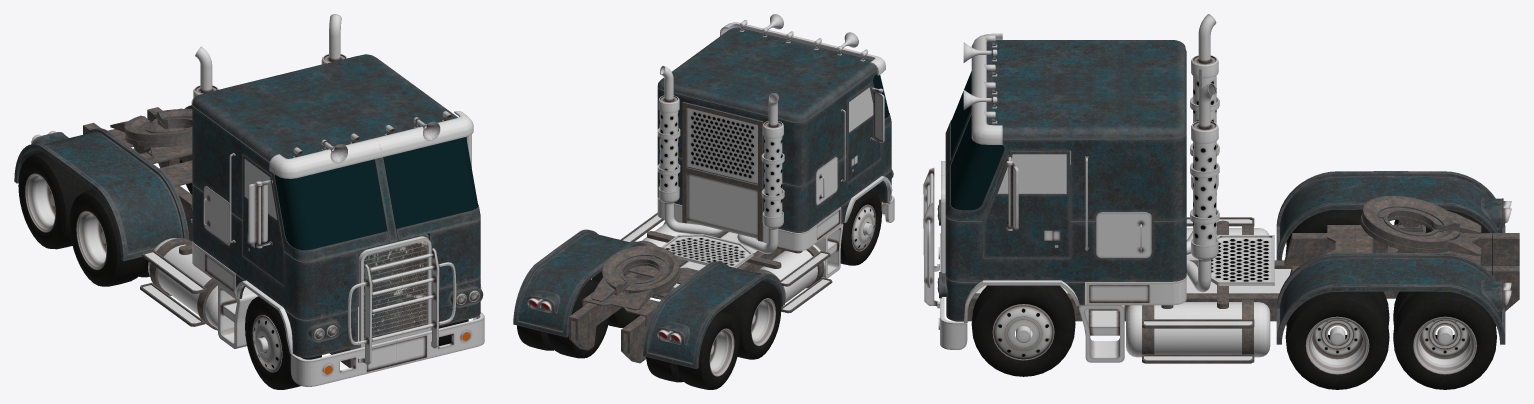
Rendered from cabover.gltf.
3 renders of one model, left to right at view 1: azimuth 30°, elevation 25°; view 2: azimuth 150°, elevation 25°; view 3: azimuth 270°, elevation 25°, orthographic. The views are drawn at different scales.
Visible parts, largest first — view 1: truck_main_body, chrome_pieces, rear_wheel_set_2_R, rear_wheel_set_1_R, front_right_tire; view 2: truck_main_body, chrome_pieces, rear_wheel_set_2_R, rear_wheel_set_1_R, front_right_tire, rear_wheel_set_2_L, rear_wheel_set_1_L; view 3: truck_main_body, chrome_pieces, rear_wheel_set_1_L, rear_wheel_set_2_L, front_left_tire, rear_wheel_set_1_R.
Part boxes in pixels (bbox=[...]): truck_main_body: bbox=[14, 54, 483, 367]; chrome_pieces: bbox=[143, 14, 484, 386]; rear_wheel_set_2_R: bbox=[18, 152, 92, 249]; rear_wheel_set_1_R: bbox=[69, 189, 149, 286]; front_right_tire: bbox=[245, 296, 321, 389]; truck_main_body: bbox=[513, 27, 893, 368]; chrome_pieces: bbox=[623, 14, 894, 310]; rear_wheel_set_2_R: bbox=[646, 311, 739, 389]; rear_wheel_set_1_R: bbox=[721, 280, 781, 359]; front_right_tire: bbox=[840, 190, 881, 265]; rear_wheel_set_2_L: bbox=[517, 279, 609, 358]; rear_wheel_set_1_L: bbox=[591, 271, 639, 327]; truck_main_body: bbox=[939, 40, 1519, 363]; chrome_pieces: bbox=[923, 14, 1291, 362]; rear_wheel_set_1_L: bbox=[1285, 291, 1389, 389]; rear_wheel_set_2_L: bbox=[1393, 291, 1496, 389]; front_left_tire: bbox=[971, 285, 1075, 376]; rear_wheel_set_1_R: bbox=[1285, 209, 1362, 255].
Size of the model in its own units: 4.75 by 5.27 by 10.02.
Materials: 3 (3 with a texture image).
